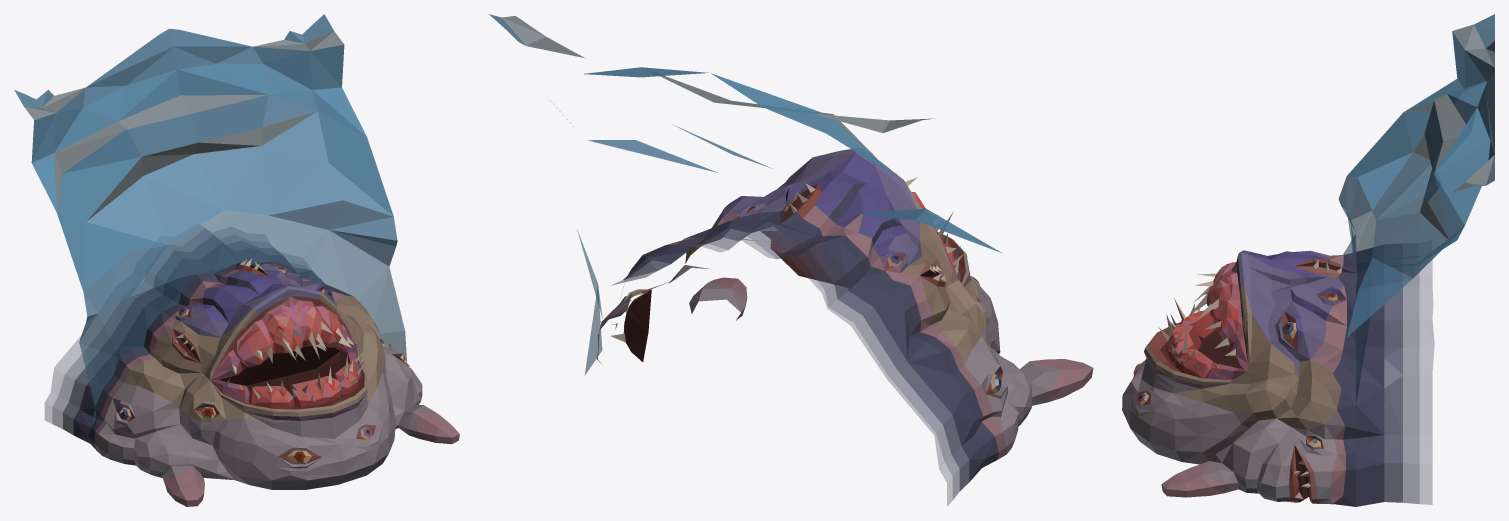
Rendered from duke-sucellus.gltf.
The picture shows the model from 3 angles, left to right: view 1: azimuth 30°, elevation 25°; view 2: azimuth 150°, elevation 25°; view 3: azimuth 270°, elevation 25°; orthographic projection. The views are drawn at different scales.
Bounding box in the file's own units: 896 × 930 × 873.
Materials: 2 (2 with a texture image).
